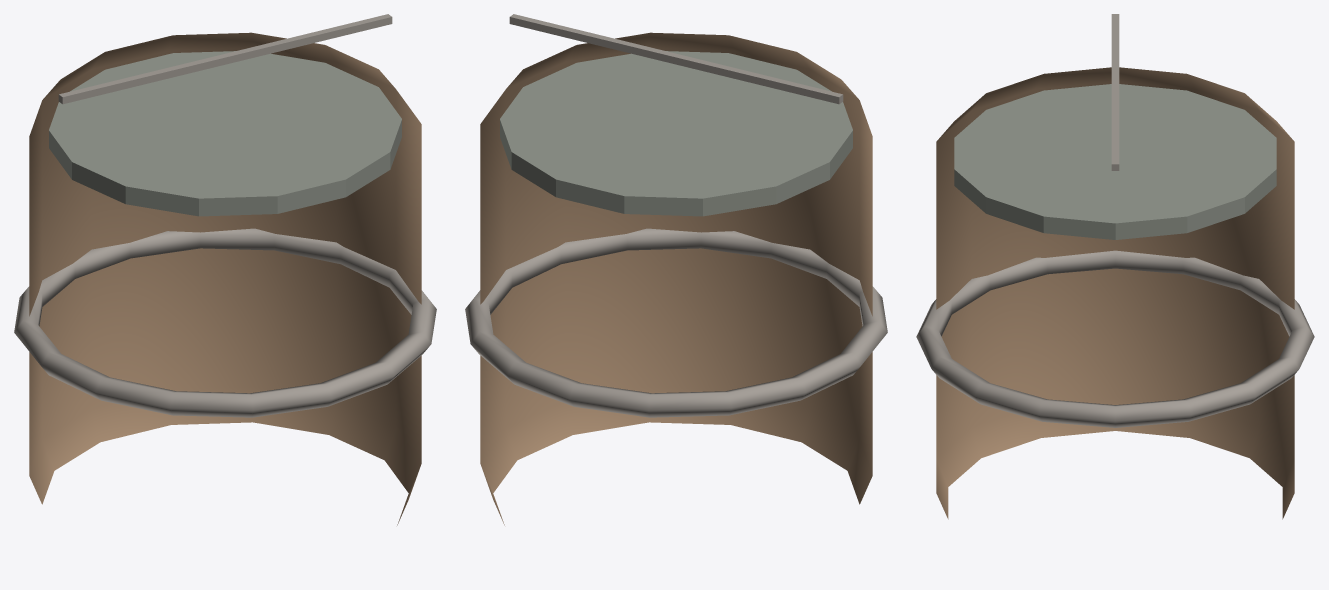
Rendered from trench-line-1917-water-butt-dd959f73__24056.glb.
3 views of the same model, side by side, from view 1: azimuth 30°, elevation 25°; view 2: azimuth 150°, elevation 25°; view 3: azimuth 270°, elevation 25° (orthographic). The views are drawn at different scales.
Parts seen in each view (by area): view 1: water-butt; view 2: water-butt; view 3: water-butt.
Part boxes in pixels (<box>): water-butt: <box>14,14,436,525</box>; water-butt: <box>465,14,887,525</box>; water-butt: <box>916,14,1314,519</box>.
Size of the model in its own units: 0.65 by 0.746 by 0.65.
